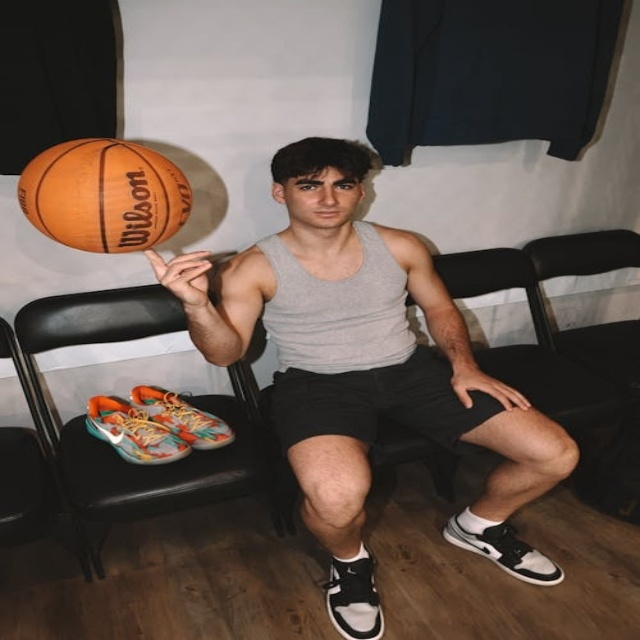Sin_gafas: (284, 174, 364, 196)
Sin_guantes: (142, 245, 219, 305), (444, 364, 536, 414)
Sin_mascara: (300, 206, 348, 226)
